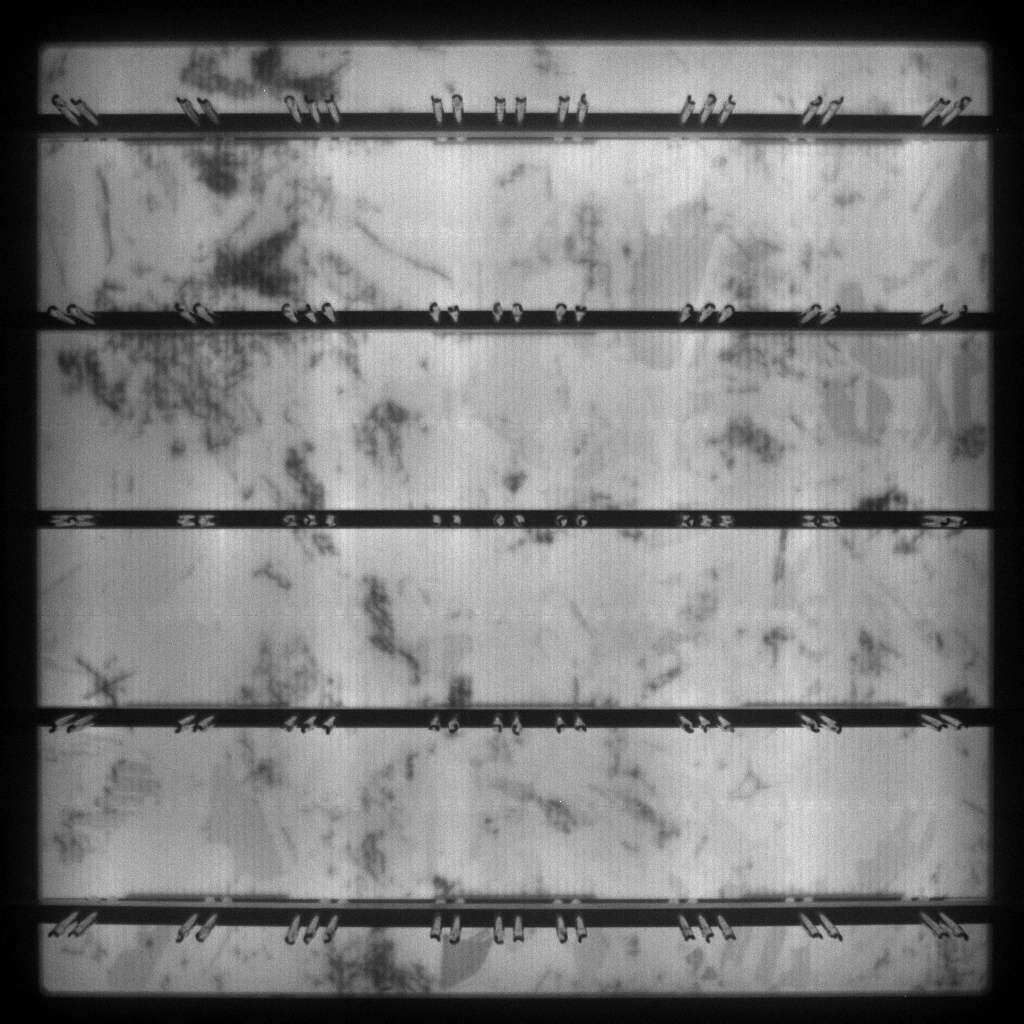crack: (72, 656, 131, 706)
